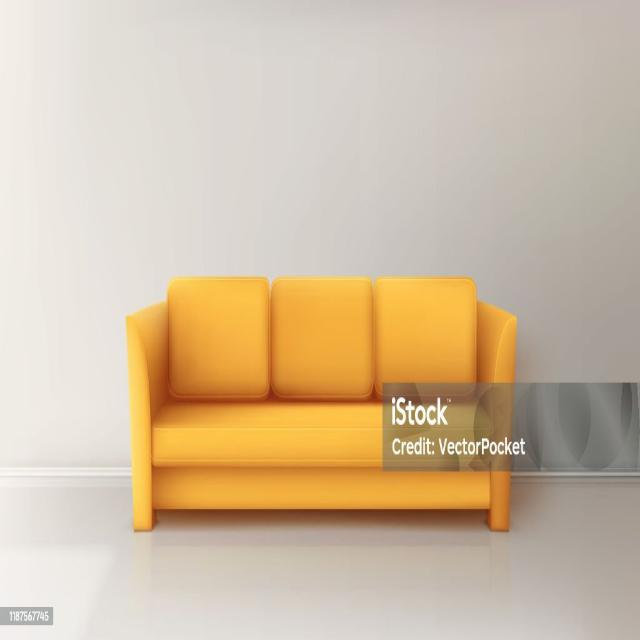back_cushion: (168, 278, 492, 400)
left_arm: (477, 303, 516, 438), (487, 461, 510, 530)
right_arm: (126, 303, 167, 530)
seat_cushion: (127, 277, 516, 530), (151, 385, 511, 470)
stallion-sofa1: (127, 277, 516, 530)
